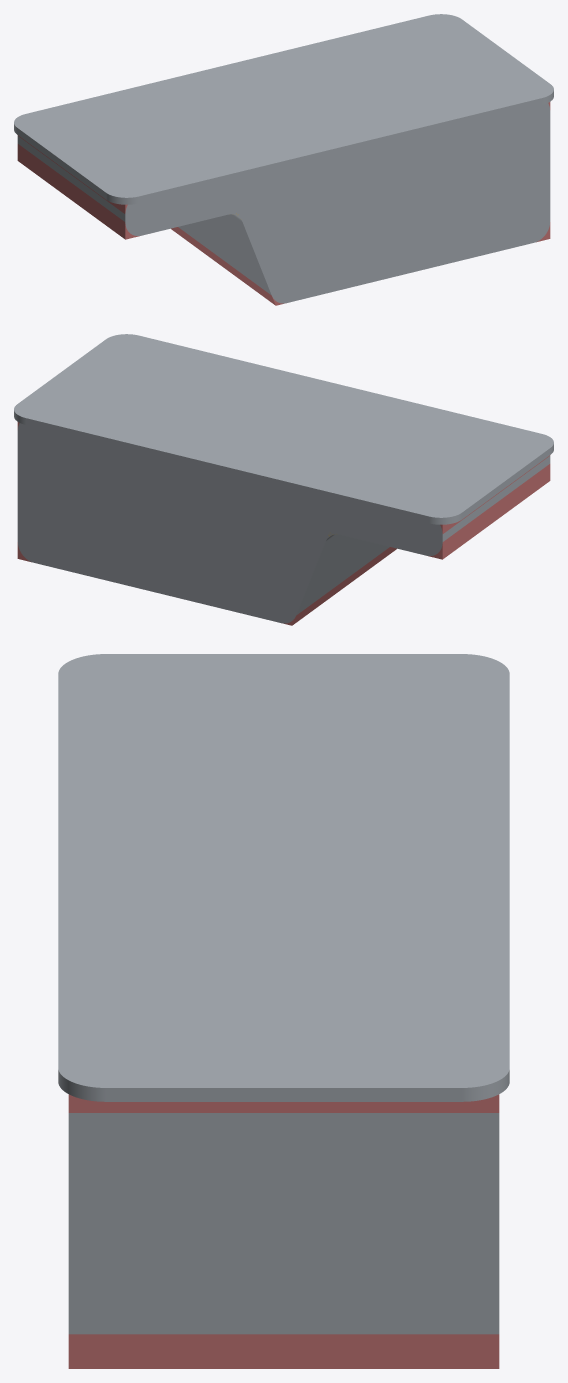
Rendered from step_03.glb.
3 renders of one model, top to bottom at view 1: azimuth 30°, elevation 25°; view 2: azimuth 150°, elevation 25°; view 3: azimuth 270°, elevation 25°, orthographic. The views are drawn at different scales.
Visible parts, largest first — view 1: part__oil pan, removed__oil pan; view 2: part__oil pan, removed__oil pan; view 3: part__oil pan, removed__oil pan.
Part boxes in pixels (<box>): part__oil pan: <box>14,14,553,303</box>; removed__oil pan: <box>17,102,550,305</box>; part__oil pan: <box>14,334,553,623</box>; removed__oil pan: <box>17,422,550,625</box>; part__oil pan: <box>58,654,509,1334</box>; removed__oil pan: <box>68,1094,499,1368</box>.
Bounding box in the file's own units: 537 × 168 × 236.
